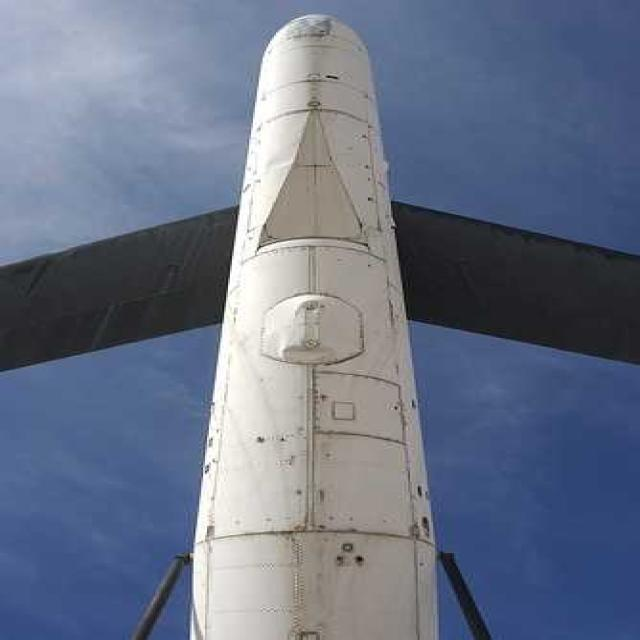missile: (0, 11, 640, 638)
